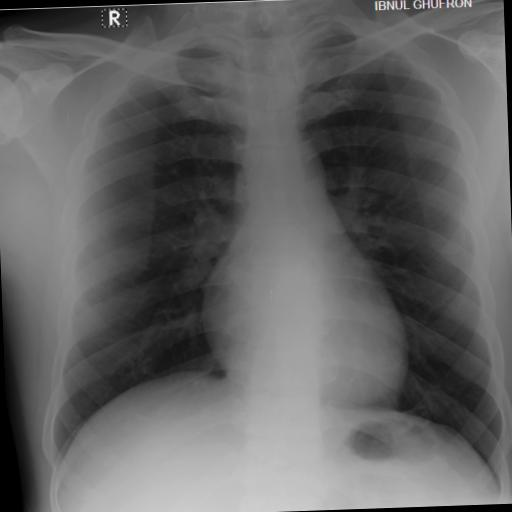normal: (29, 2, 512, 501)
